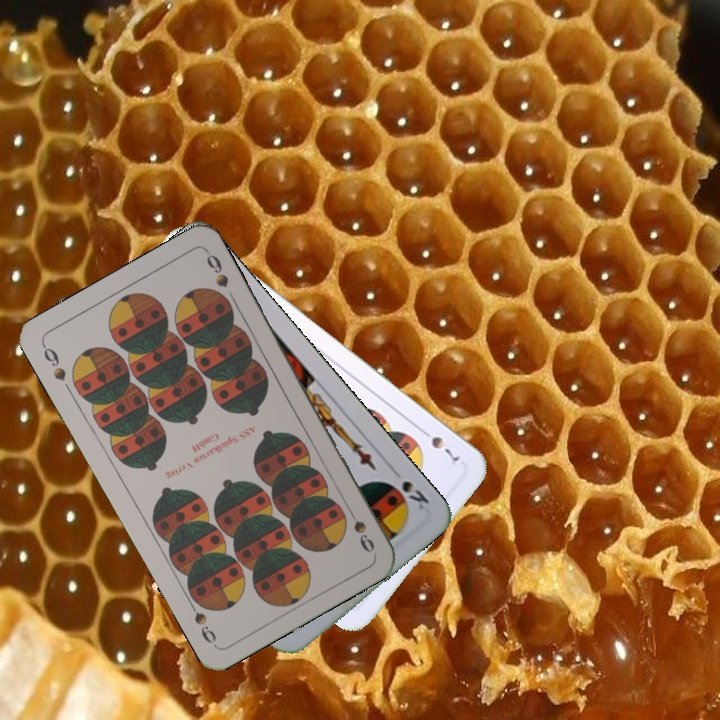S7: (415, 423, 463, 465)
S9: (342, 501, 378, 556), (38, 340, 69, 384)
SK: (387, 463, 432, 513)
